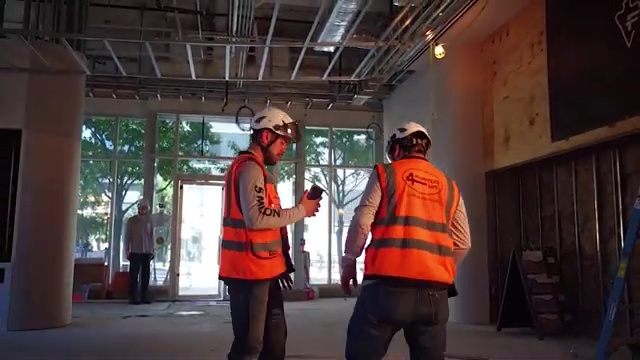helmet: (244, 108, 306, 139), (385, 122, 435, 150)
jacket: (372, 158, 453, 287), (226, 150, 294, 283)
